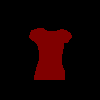t-shirt: (28, 27, 72, 80)
